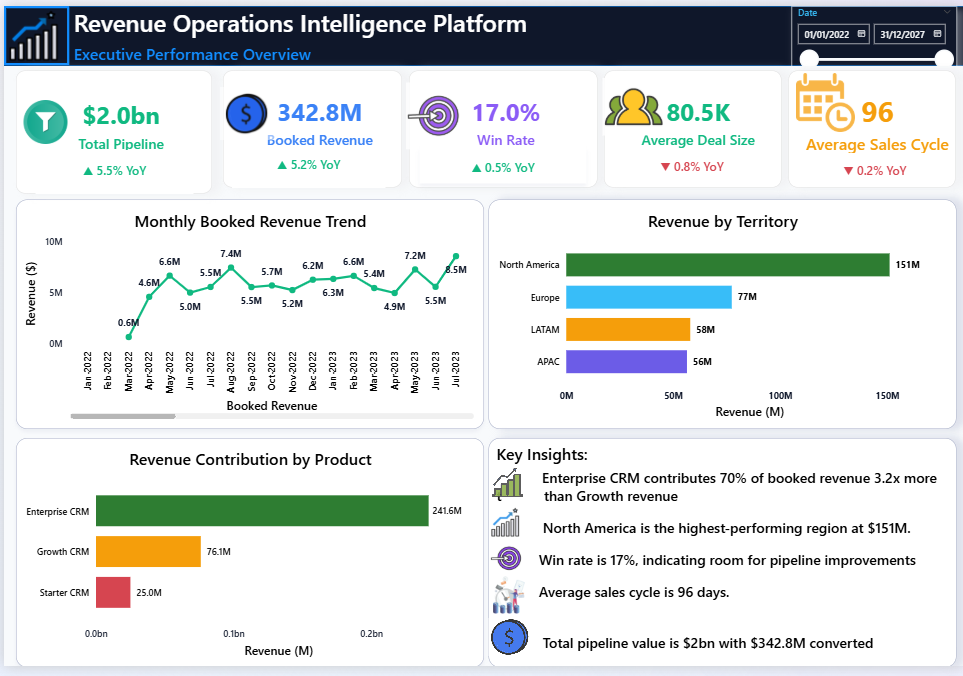

What the dashboard file says about the page in this screenshot:
{"tool":"powerbi","page":{"name":"Page 1","canvas":[1280,880],"ordinal":0},"visuals":[{"type":"card","fields":{"Values":["Measures table.Total Pipeline"]},"box":[16.2,87,261.3,164.1],"z":0,"group":"g1"},{"type":"lineChart","title":"Monthly Booked Revenue Trend","fields":{"Category":["Dim_Date.Year Month"],"Y":["Measures table.Booked Revenue"]},"box":[16.2,257.2,623.8,305.8],"z":0},{"type":"card","fields":{"Values":["Measures table.Booked Revenue"]},"box":[291.1,87,239,155.9],"z":1000,"group":"g2"},{"type":"clusteredBarChart","title":"Revenue by Territory","fields":{"Y":["Measures table.Total Revenue"],"Category":["dim_sales_rep.territory"]},"box":[646.1,257.2,623.8,305.8],"z":1000},{"type":"card","fields":{"Values":["Measures table.Win Rate"]},"box":[539.7,87,251.1,155.9],"z":2000,"group":"g3"},{"type":"clusteredBarChart","title":"Revenue Contribution by Product","fields":{"Category":["dim_product.product_name"],"Y":["Measures table.Booked Revenue"]},"box":[16.2,575.2,623.8,305.8],"z":2000},{"type":"card","fields":{"Values":["Measures table.Average Deal Size"]},"box":[800.5,87,237,155.9],"z":3000,"group":"g4"},{"type":"textbox","title":"Key Insights:","box":[646.1,575.2,623.8,305.8],"z":3000},{"type":"shape","box":[0,0,1280,80],"z":4000},{"type":"card","fields":{"Values":["Measures table.Average Sales Cycle"]},"box":[1045.3,86,222.8,155.9],"z":4000,"group":"g6"},{"type":"textbox","title":"Revenue Operations Intelligence Platform","box":[87.1,0,1192.9,81],"z":5000},{"type":"actionButton","box":[0,0,87.1,79],"z":6000},{"type":"actionButton","box":[648.1,615.7,46.6,38.5],"z":7000},{"type":"actionButton","box":[648.1,668.4,40.5,40.5],"z":8000},{"type":"actionButton","box":[648.1,708.9,42.5,56.7],"z":9000},{"type":"actionButton","box":[648.1,759.5,50.6,50.6],"z":10000},{"type":"actionButton","box":[646.1,816.2,56.7,50.6],"z":11000},{"type":"slicer","fields":{"Values":["Dim_Date.Date"]},"box":[1049.1,0,220.8,81],"z":12000},{"type":"actionButton","box":[287,109.3,74.9,70.9],"z":12000,"group":"g2"},{"type":"group","id":"g1","title":"Group 1","box":[16.2,87,261.3,164.1],"z":13000},{"type":"actionButton","box":[26.3,113.3,58.7,85.1],"z":13000,"group":"g1"},{"type":"group","id":"g2","title":"Group 2","box":[287,87,243,155.9],"z":14000},{"type":"actionButton","box":[536.7,103.2,72.9,89.1],"z":14000,"group":"g3"},{"type":"group","id":"g3","title":"Group 3","box":[536.7,87,254.2,155.9],"z":15000},{"type":"actionButton","box":[798,97.1,83,77],"z":15000,"group":"g4"},{"type":"group","id":"g4","title":"Group 4","box":[798,87,239.5,155.9],"z":16000},{"type":"actionButton","box":[1055.9,87.6,79,81],"z":16000,"group":"g6"},{"type":"card","fields":{"Values":["Measures table.Average Sales Cycle Trend"]},"box":[1061.9,196.2,198.5,40.5],"z":17000,"group":"g6"},{"type":"group","id":"g5","title":"Group 6","box":[1045.3,86,222.8,155.9],"z":18001},{"type":"group","id":"g6","title":"Group 5","box":[1045.3,86,222.8,155.9],"z":18002,"group":"g5"},{"type":"card","fields":{"Values":["Measures table.Total Pipeline Trend"]},"box":[42.5,192.3,210.6,58.7],"z":23000,"group":"g1"},{"type":"card","fields":{"Values":["Measures table.Booked Revenue Trend"]},"box":[303.2,190.3,204.6,52.7],"z":23002,"group":"g2"},{"type":"card","fields":{"Values":["Measures table.Win Rate Trend"]},"box":[554.9,188.4,222.8,48.6],"z":23004,"group":"g3"},{"type":"card","fields":{"Values":["Measures table.Average Deal Size Trend"]},"box":[814.2,192.4,206.6,48.6],"z":23005,"group":"g4"}]}

Visuals, with their boxes in screenshot pixels (x1, y1, x2, y2), scaled from the page's 1280x880 canvas onto the 963x676 screenshot:
card - Measures table.Total Pipeline: (left=12, top=67, right=209, bottom=193)
"Monthly Booked Revenue Trend" lineChart: (left=12, top=198, right=482, bottom=432)
card - Measures table.Booked Revenue: (left=219, top=67, right=399, bottom=187)
"Revenue by Territory" clusteredBarChart: (left=486, top=198, right=955, bottom=432)
card - Measures table.Win Rate: (left=406, top=67, right=595, bottom=187)
"Revenue Contribution by Product" clusteredBarChart: (left=12, top=442, right=482, bottom=675)
card - Measures table.Average Deal Size: (left=602, top=67, right=781, bottom=187)
"Key Insights:" textbox: (left=486, top=442, right=955, bottom=675)
shape: (left=0, top=0, right=962, bottom=61)
card - Measures table.Average Sales Cycle: (left=786, top=66, right=954, bottom=186)
"Revenue Operations Intelligence Platform" textbox: (left=66, top=0, right=962, bottom=62)
actionButton: (left=0, top=0, right=66, bottom=61)
actionButton: (left=488, top=473, right=523, bottom=503)
actionButton: (left=488, top=513, right=518, bottom=545)
actionButton: (left=488, top=545, right=520, bottom=588)
actionButton: (left=488, top=583, right=526, bottom=622)
actionButton: (left=486, top=627, right=529, bottom=666)
slicer - Dim_Date.Date: (left=789, top=0, right=955, bottom=62)
actionButton: (left=216, top=84, right=272, bottom=138)
"Group 1" group: (left=12, top=67, right=209, bottom=193)
actionButton: (left=20, top=87, right=64, bottom=152)
"Group 2" group: (left=216, top=67, right=399, bottom=187)
actionButton: (left=404, top=79, right=459, bottom=148)
"Group 3" group: (left=404, top=67, right=595, bottom=187)
actionButton: (left=600, top=75, right=663, bottom=134)
"Group 4" group: (left=600, top=67, right=781, bottom=187)
actionButton: (left=794, top=67, right=854, bottom=130)
card - Measures table.Average Sales Cycle Trend: (left=799, top=151, right=948, bottom=182)
"Group 6" group: (left=786, top=66, right=954, bottom=186)
"Group 5" group: (left=786, top=66, right=954, bottom=186)
card - Measures table.Total Pipeline Trend: (left=32, top=148, right=190, bottom=193)
card - Measures table.Booked Revenue Trend: (left=228, top=146, right=382, bottom=187)
card - Measures table.Win Rate Trend: (left=417, top=145, right=585, bottom=182)
card - Measures table.Average Deal Size Trend: (left=613, top=148, right=768, bottom=185)
